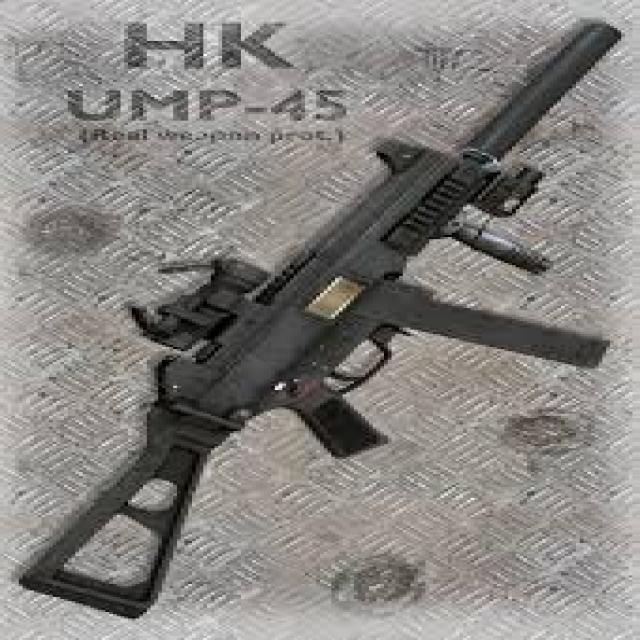Gun: (26, 13, 606, 614)
